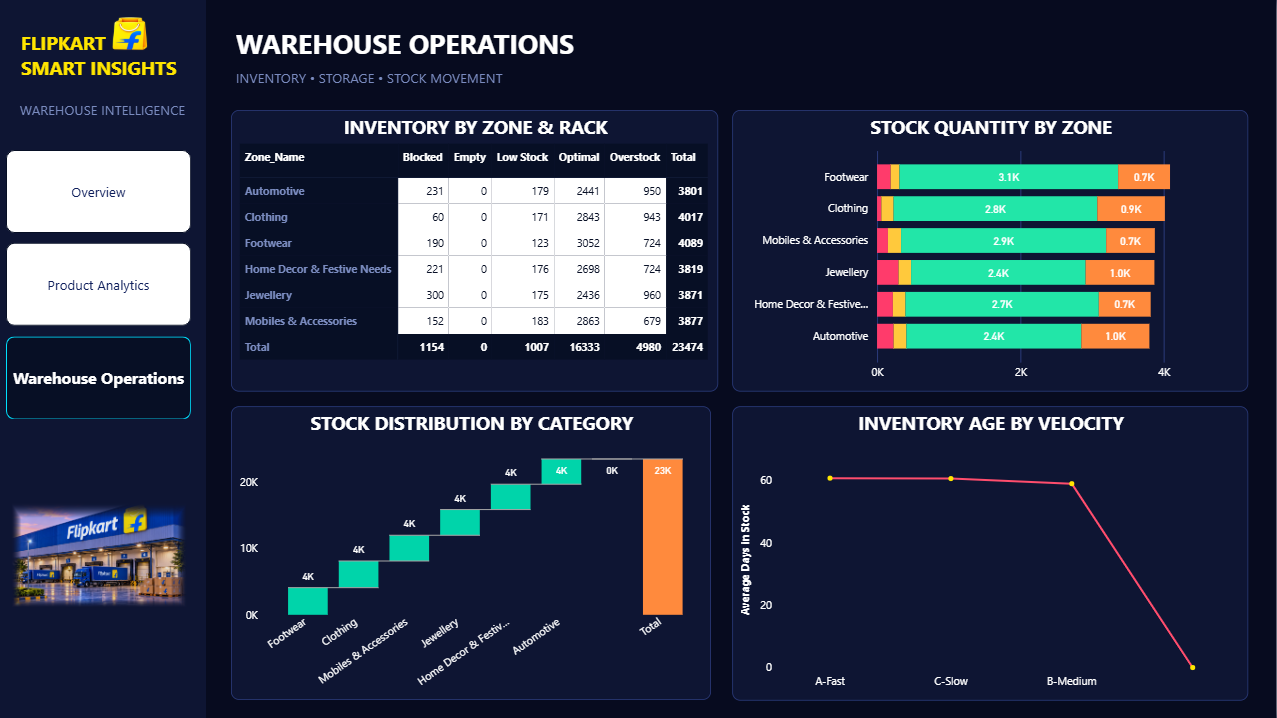

What the dashboard file says about the page in this screenshot:
{"tool":"powerbi","page":{"name":"Warehouse Operations","canvas":[1280,720],"ordinal":2},"visuals":[{"type":"shape","box":[0,0,210,720],"z":0},{"type":"image","box":[10,420,186.2,270],"z":1000},{"type":"textbox","box":[20,25,175,65],"z":2000},{"type":"image","box":[107,10,53,47],"z":3000},{"type":"textbox","box":[19,95,176,36],"z":4000},{"type":"pageNavigator","box":[10,150,185,270],"z":5000},{"type":"textbox","box":[235,20,800,47.5],"z":6000},{"type":"textbox","box":[235,62.5,800,32.5],"z":7000},{"type":"pivotTable","title":"\tINVENTORY BY ZONE & RACK","fields":{"Columns":["Flipkart_Warehouse.Bin_Status"],"Rows":["Flipkart_Warehouse.Zone_Name","Flipkart_Warehouse.Rack"],"Values":["Flipkart_Warehouse.Total Units in Stock"]},"box":[235,110,487.5,281.2],"z":8000},{"type":"barChart","title":"\tSTOCK QUANTITY BY ZONE","fields":{"Category":["Flipkart_Warehouse.Zone_Name"],"Series":["Flipkart_Warehouse.Bin_Status"],"Y":["Flipkart_Warehouse.Total Units in Stock"]},"box":[736.2,110,516.2,281.2],"z":9000},{"type":"waterfallChart","title":"STOCK DISTRIBUTION BY CATEGORY","fields":{"Category":["Flipkart_Warehouse.Category"],"Y":["Flipkart_Warehouse.Total Units in Stock"]},"box":[235,406,480,293.8],"z":10000},{"type":"lineChart","title":"\tINVENTORY AGE BY VELOCITY","fields":{"Category":["Flipkart_Warehouse.Velocity_Class"],"Y":["Flipkart_Warehouse.Average Days in Stock"]},"box":[736,406,516,294],"z":11000}]}

Visuals, with their boxes on the page's 1280x720 design canvas (x1, y1, x2, y2). These are canvas units, not pixel positions in the 1277x718 screenshot, which may show the page scaled, cropped or inside an application window:
shape: <bbox>0, 0, 210, 720</bbox>
image: <bbox>10, 420, 196, 690</bbox>
textbox: <bbox>20, 25, 195, 90</bbox>
image: <bbox>107, 10, 160, 57</bbox>
textbox: <bbox>19, 95, 195, 131</bbox>
pageNavigator: <bbox>10, 150, 195, 420</bbox>
textbox: <bbox>235, 20, 1035, 68</bbox>
textbox: <bbox>235, 62, 1035, 95</bbox>
"	INVENTORY BY ZONE & RACK" pivotTable: <bbox>235, 110, 722, 391</bbox>
"	STOCK QUANTITY BY ZONE" barChart: <bbox>736, 110, 1252, 391</bbox>
"STOCK DISTRIBUTION BY CATEGORY" waterfallChart: <bbox>235, 406, 715, 700</bbox>
"	INVENTORY AGE BY VELOCITY" lineChart: <bbox>736, 406, 1252, 700</bbox>
